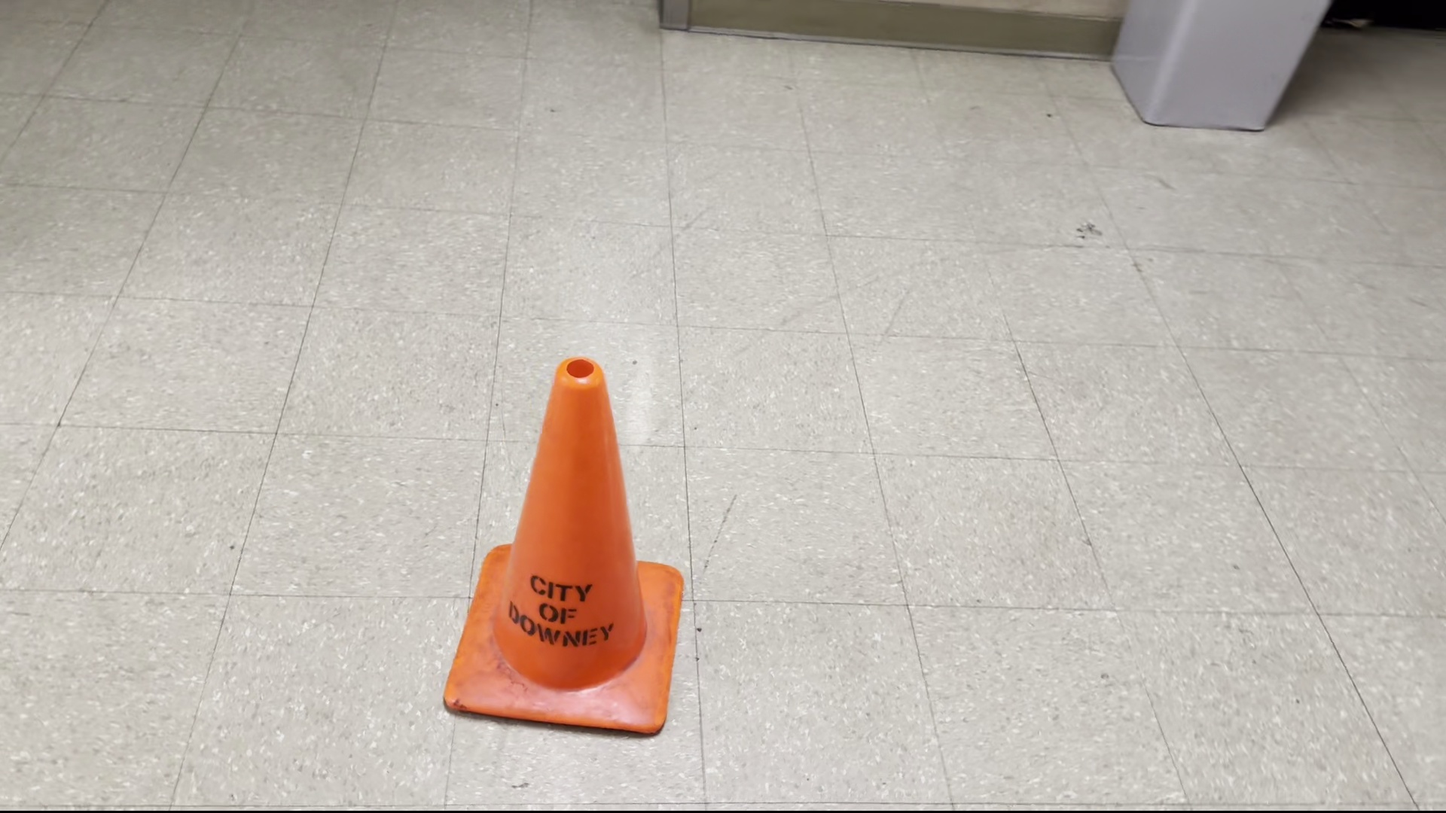traffic_cone: (442, 355, 684, 736)
